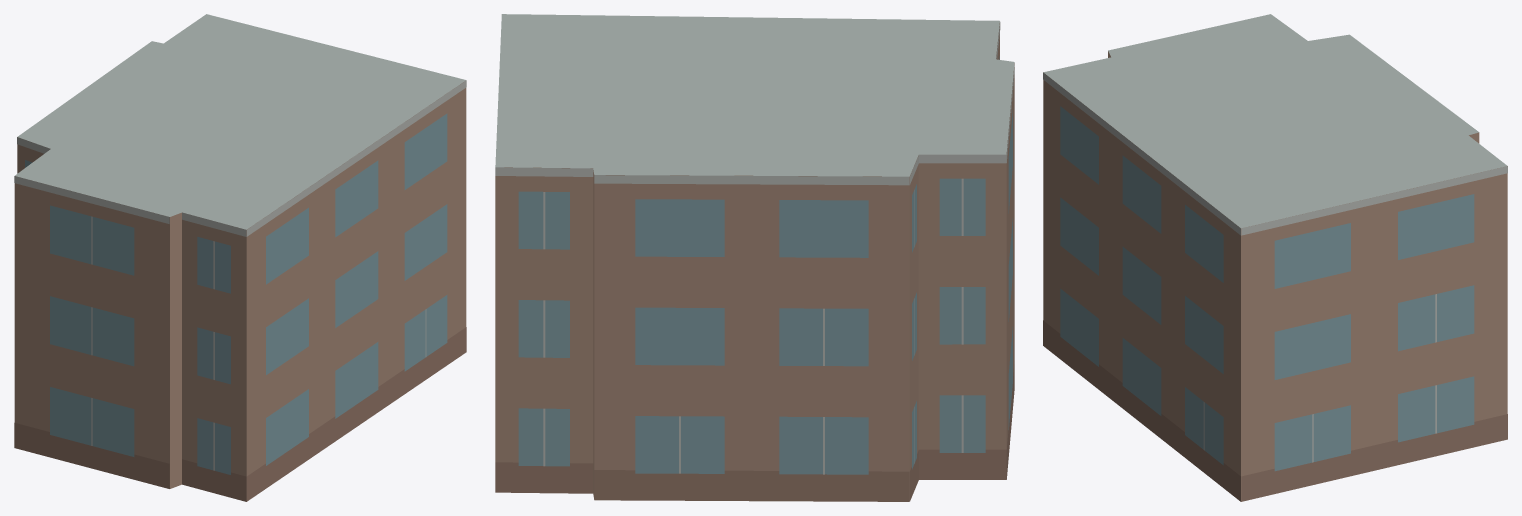
The model's file is survey-upis-33042721.glb.
3 renders of one model, left to right at view 1: azimuth 30°, elevation 25°; view 2: azimuth 150°, elevation 25°; view 3: azimuth 270°, elevation 25°, orthographic. The views are drawn at different scales.
Parts seen in each view (by area): view 1: survey-upis-33042721.tmp; view 2: survey-upis-33042721.tmp; view 3: survey-upis-33042721.tmp.
Boxes of the visible parts, box(x1,y1,x2,y2) form: survey-upis-33042721.tmp: box(14, 14, 466, 501); survey-upis-33042721.tmp: box(495, 14, 1014, 501); survey-upis-33042721.tmp: box(1043, 14, 1507, 501).
Bounding box in the file's own units: 15.39 × 9.15 × 14.1.
